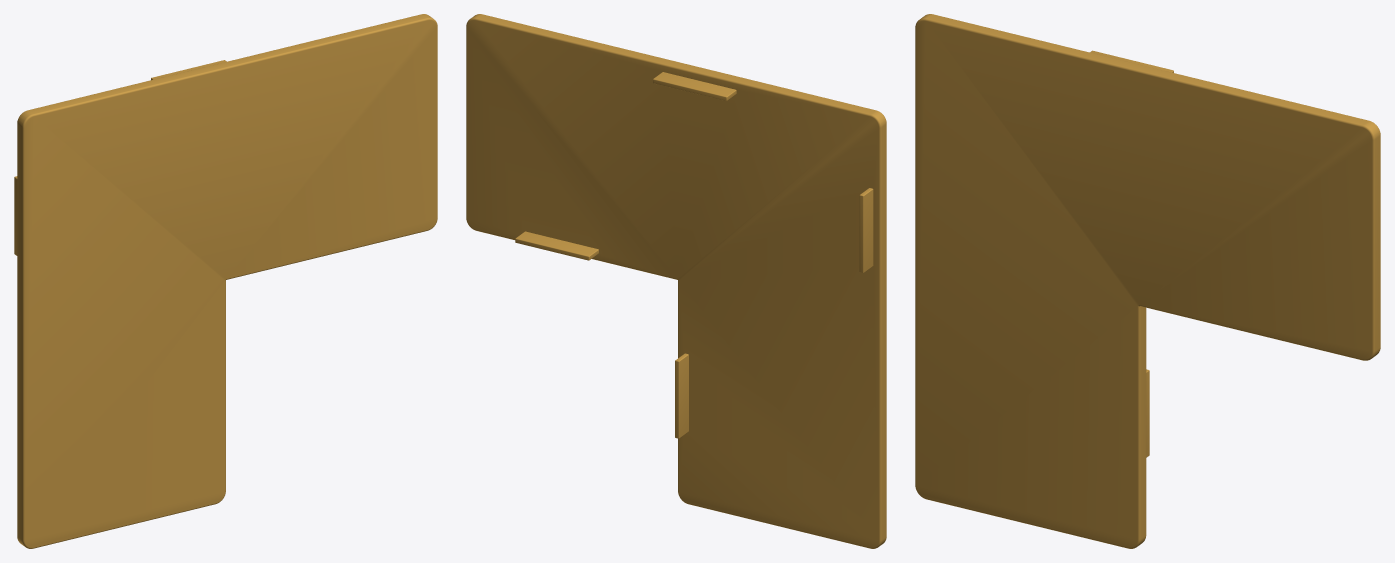
Rendered from LHR.glb.
3 renders of one model, left to right at view 1: azimuth 30°, elevation 25°; view 2: azimuth 150°, elevation 25°; view 3: azimuth 330°, elevation 25°, orthographic. The views are drawn at different scales.
Visible parts, largest first — view 1: LHR_Snow; view 2: LHR_Snow; view 3: LHR_Snow.
Part boxes in pixels (bbox=[...]): LHR_Snow: bbox=[14, 14, 437, 548]; LHR_Snow: bbox=[466, 14, 886, 548]; LHR_Snow: bbox=[915, 14, 1380, 548].
Bounding box in the file's own units: 196 × 196 × 13.6.
